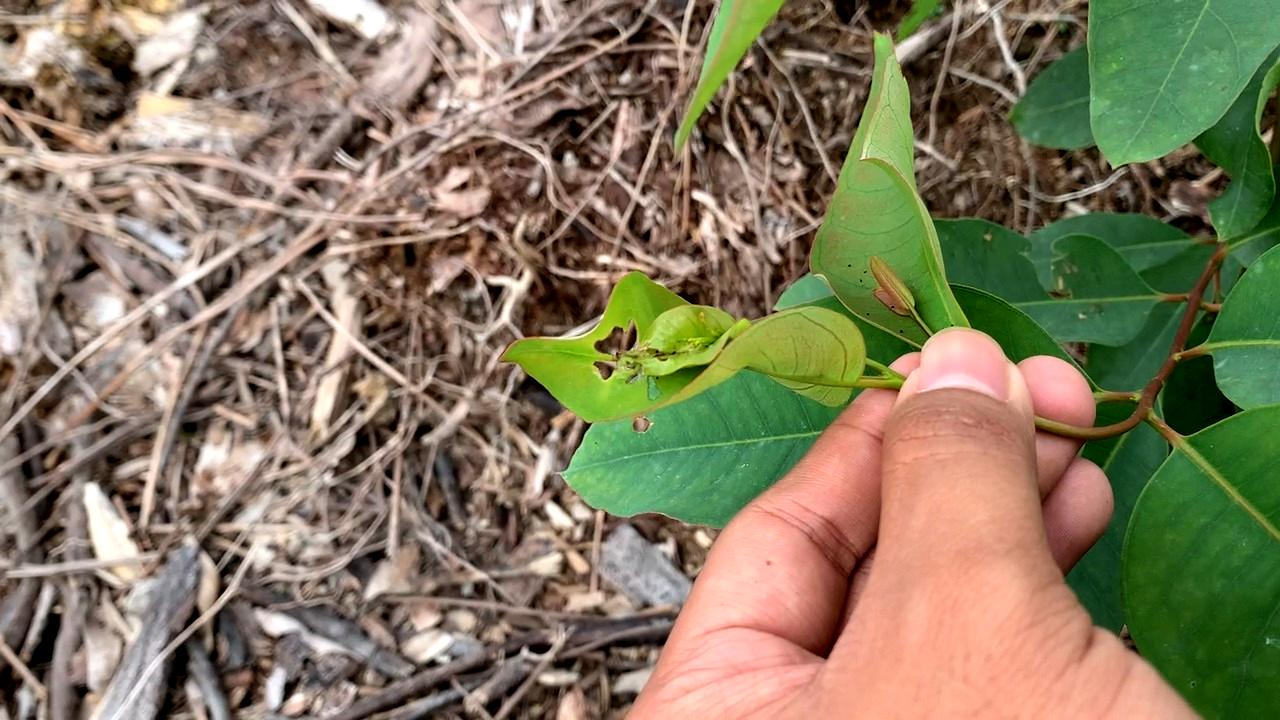Leaf Roller - Leaf: (492, 265, 875, 448)
